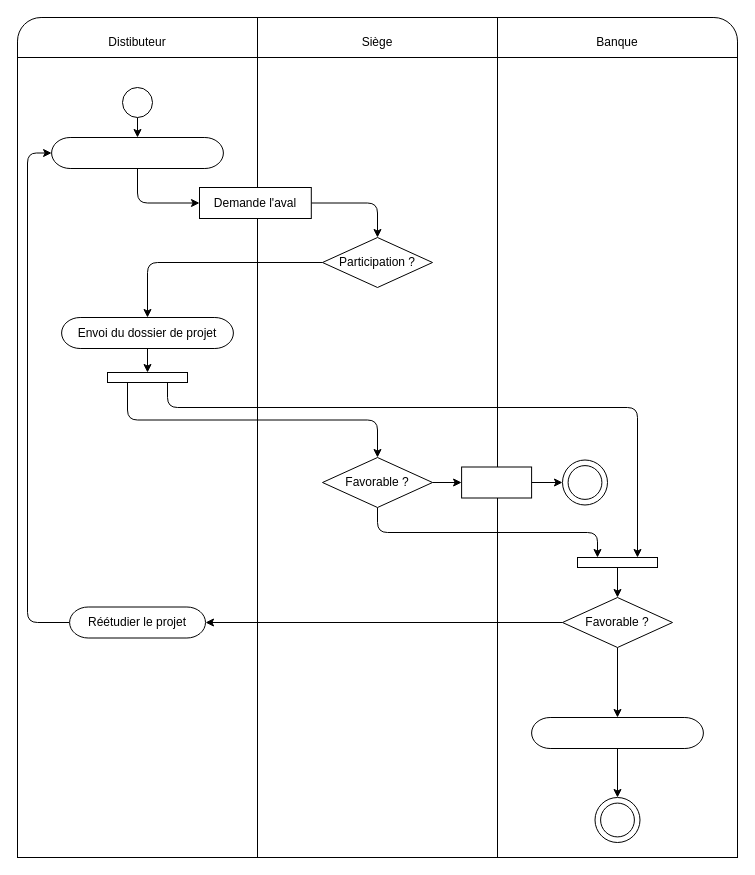
The diagram is 755 pixels wide and 875 high, and some of its shapes have lost their labels. The shapes that lost their labels are listed below. From the top down, each one's centre as x and y in pixels, then its label:
At (137,152): "Possède un projet".
At (496,482): "Abandon projet".
At (617,732): "Dossier de financement".
